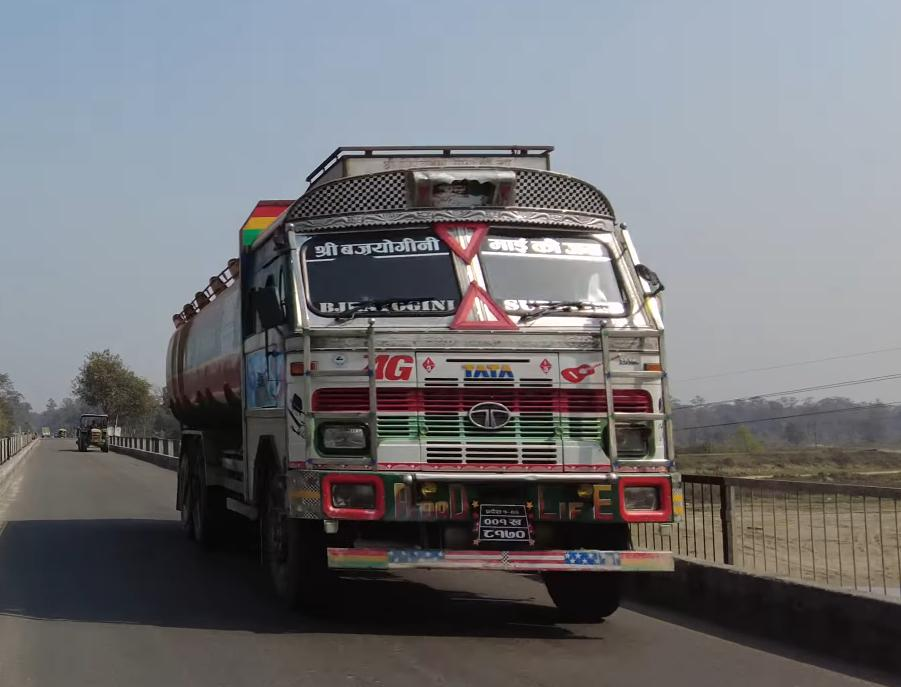tractor: (74, 407, 114, 457)
truck: (163, 143, 684, 621)
